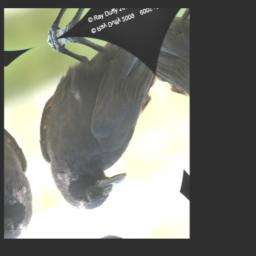Crow: (12, 9, 185, 222)
